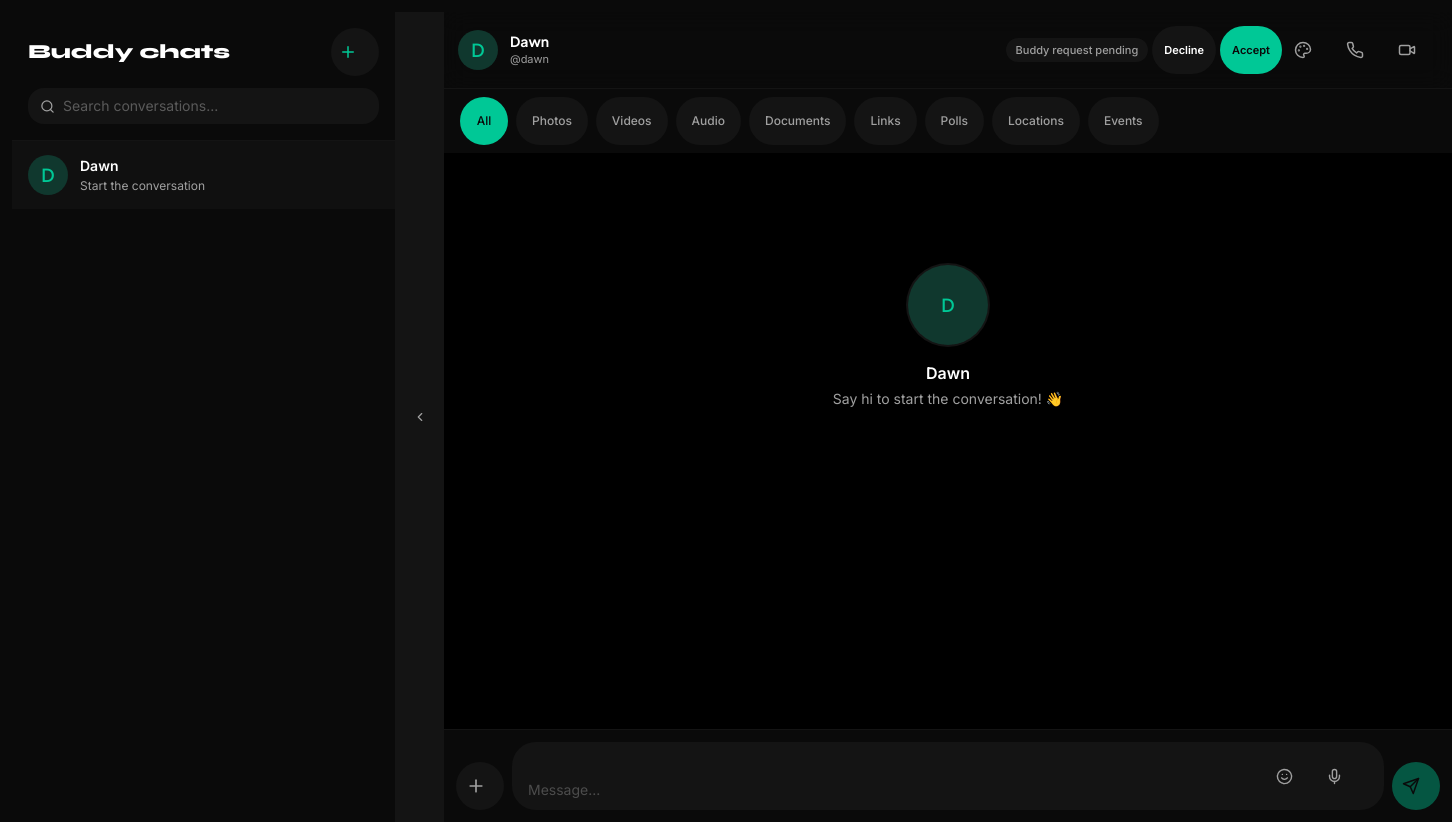
Messages — answering an incoming buddy request › declines the request without asking first
Click the button "Decline" at x=1184, y=50, box [1152, 26, 1216, 74]
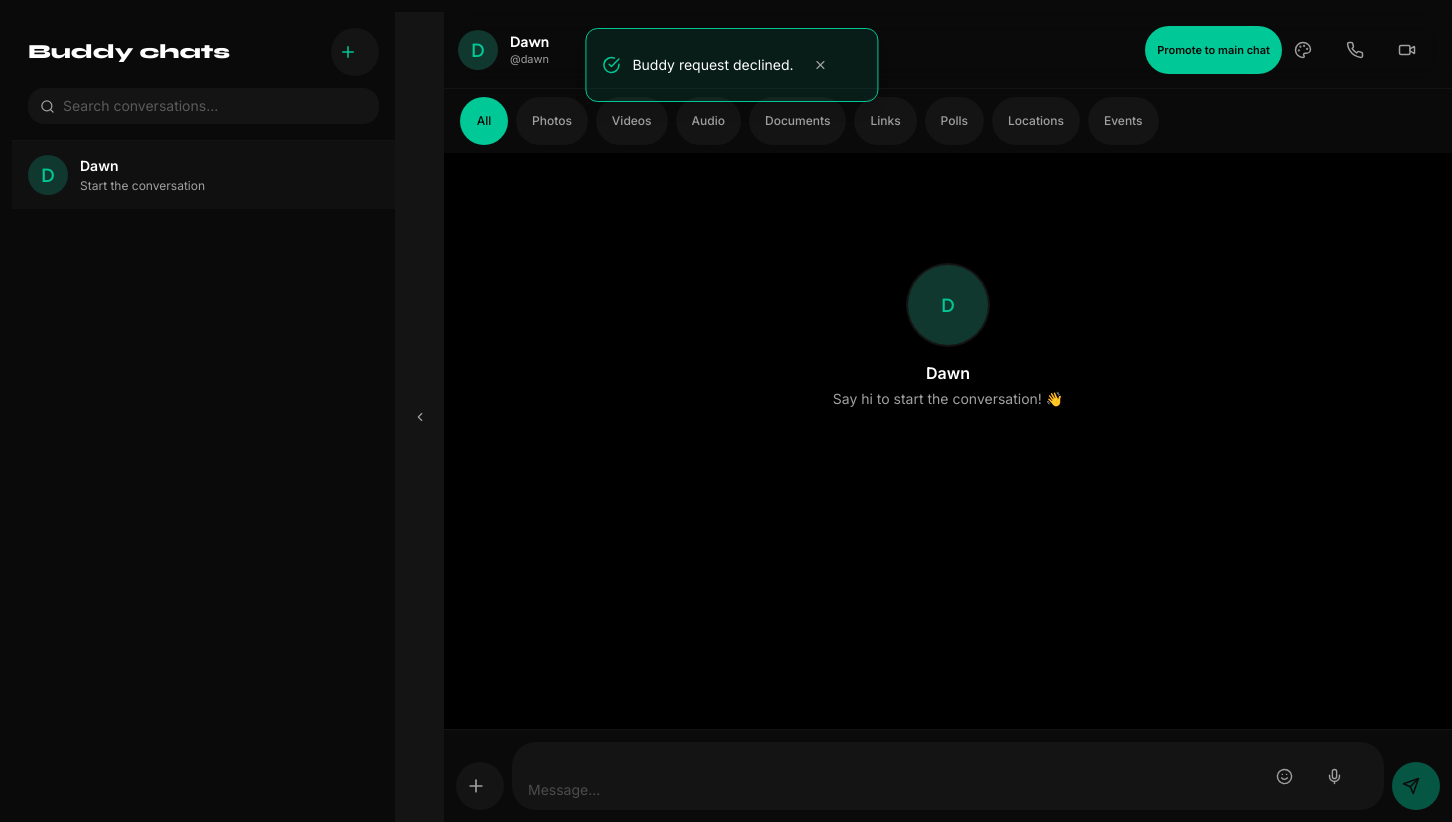
Check: the text "Buddy request declined." is shown, box [632, 55, 794, 75]
